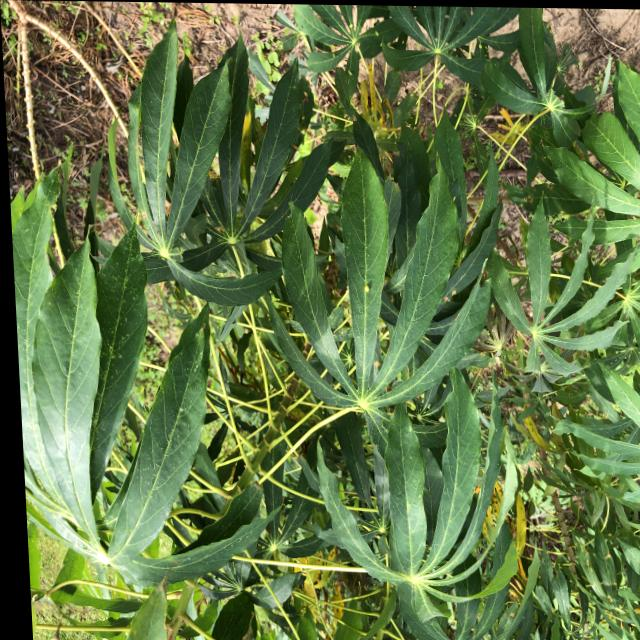Mosca: (442, 283, 460, 307), (361, 278, 374, 299), (370, 354, 385, 370), (291, 76, 301, 97), (269, 199, 281, 216)
